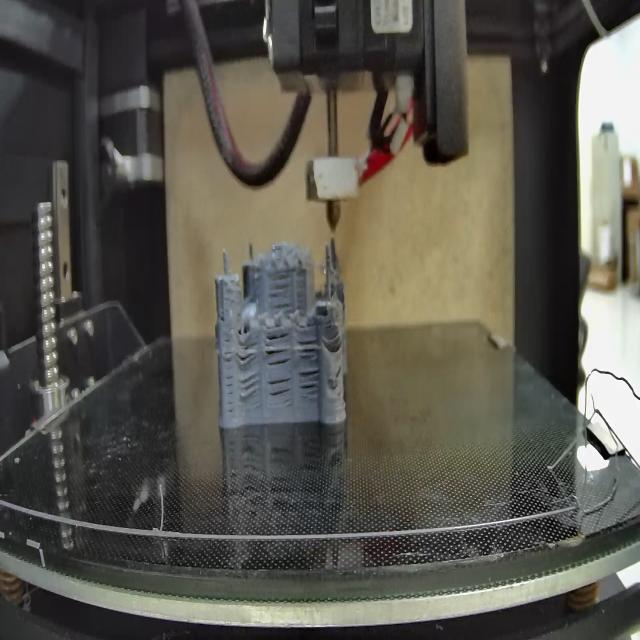cracks: (296, 333, 319, 404), (262, 332, 292, 368), (268, 271, 293, 312), (265, 375, 293, 404), (224, 342, 234, 418), (238, 334, 260, 366), (239, 373, 260, 399), (328, 329, 344, 352), (329, 362, 344, 385), (217, 308, 229, 328)
